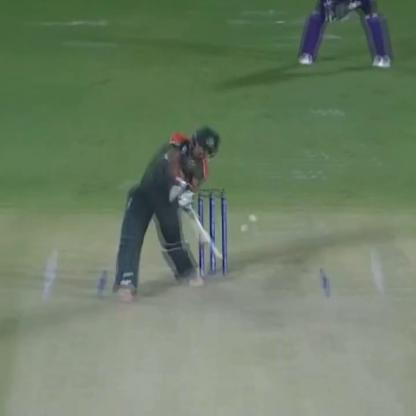ball: (246, 210, 264, 224), (233, 224, 251, 235)
bat: (170, 188, 232, 262)
pitch: (6, 243, 416, 415)
